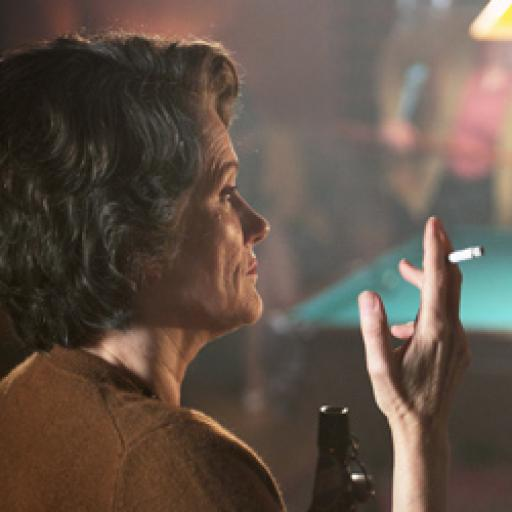terdeteksi pegang rokok: (363, 196, 489, 387)
